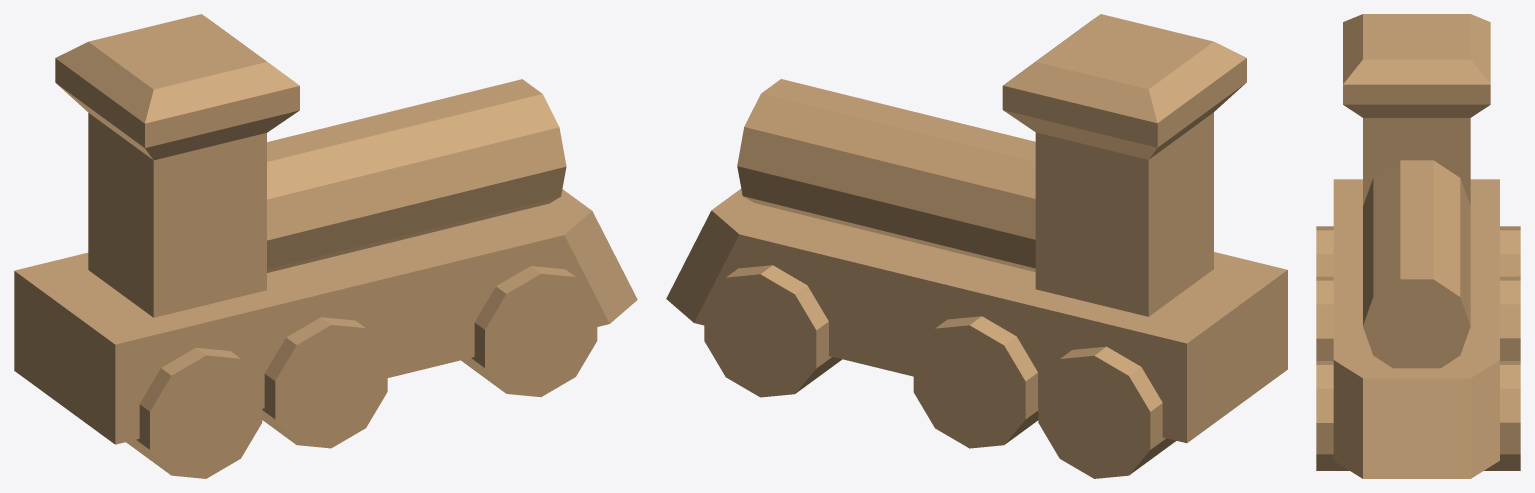
File: train.fbx
3 views of the same model, side by side, from view 1: azimuth 30°, elevation 25°; view 2: azimuth 150°, elevation 25°; view 3: azimuth 270°, elevation 25° (orthographic). The views are drawn at different scales.
Parts seen in each view (by area): view 1: Cube; view 2: Cube; view 3: Cube.
Boxes of the visible parts, left/top/right/bottom form: Cube: left=14, top=14, right=637, bottom=478; Cube: left=666, top=14, right=1287, bottom=478; Cube: left=1316, top=14, right=1520, bottom=478.
Size of the model in its own units: 953 by 631 by 379.
Materials: 1 (1 with a texture image).
